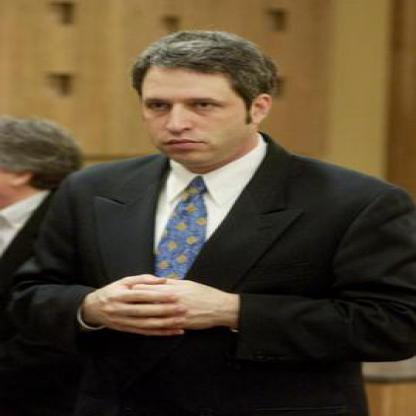face: (135, 42, 257, 168)
